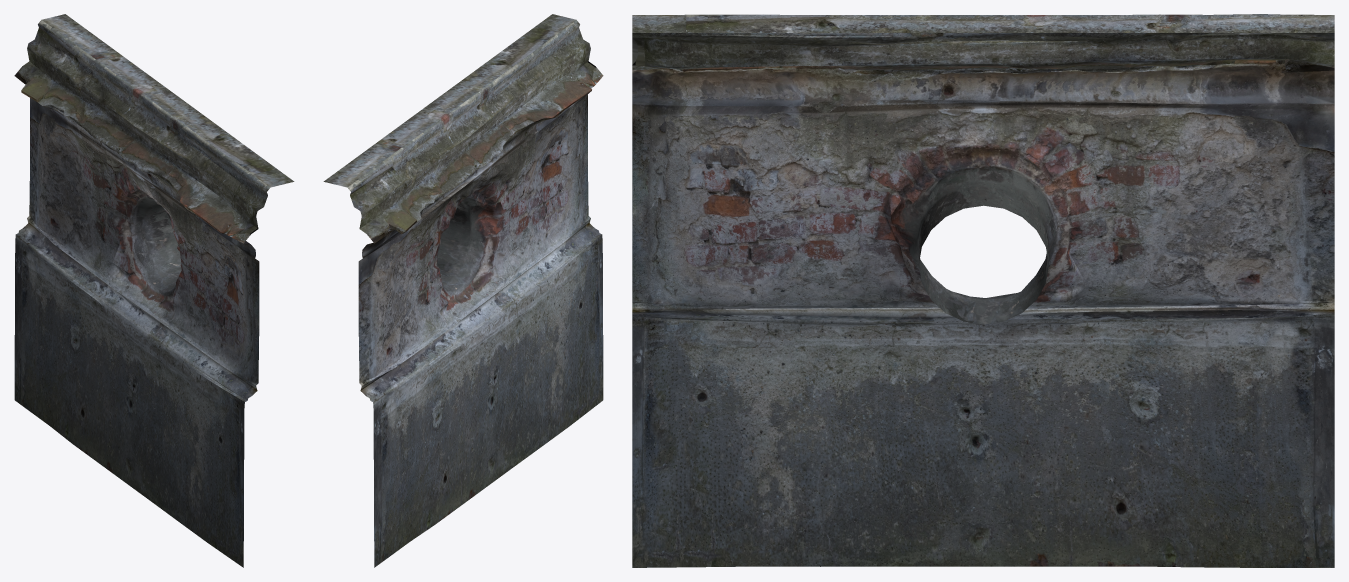
File: sm_ChapelWall_02_02_OneSide.fbx
3 views of the same model, side by side, from view 1: azimuth 30°, elevation 25°; view 2: azimuth 150°, elevation 25°; view 3: azimuth 270°, elevation 25° (orthographic). The views are drawn at different scales.
Visible parts, largest first — view 1: sm_ChapelWall_02_02_OneSide_LOD0; view 2: sm_ChapelWall_02_02_OneSide_LOD0; view 3: sm_ChapelWall_02_02_OneSide_LOD0.
Part boxes in pixels (x1,y1,x2,y2): sm_ChapelWall_02_02_OneSide_LOD0: [14, 14, 294, 567]; sm_ChapelWall_02_02_OneSide_LOD0: [323, 14, 603, 567]; sm_ChapelWall_02_02_OneSide_LOD0: [632, 14, 1334, 567].
Size of the model in its own units: 52.62 by 250 by 225.
